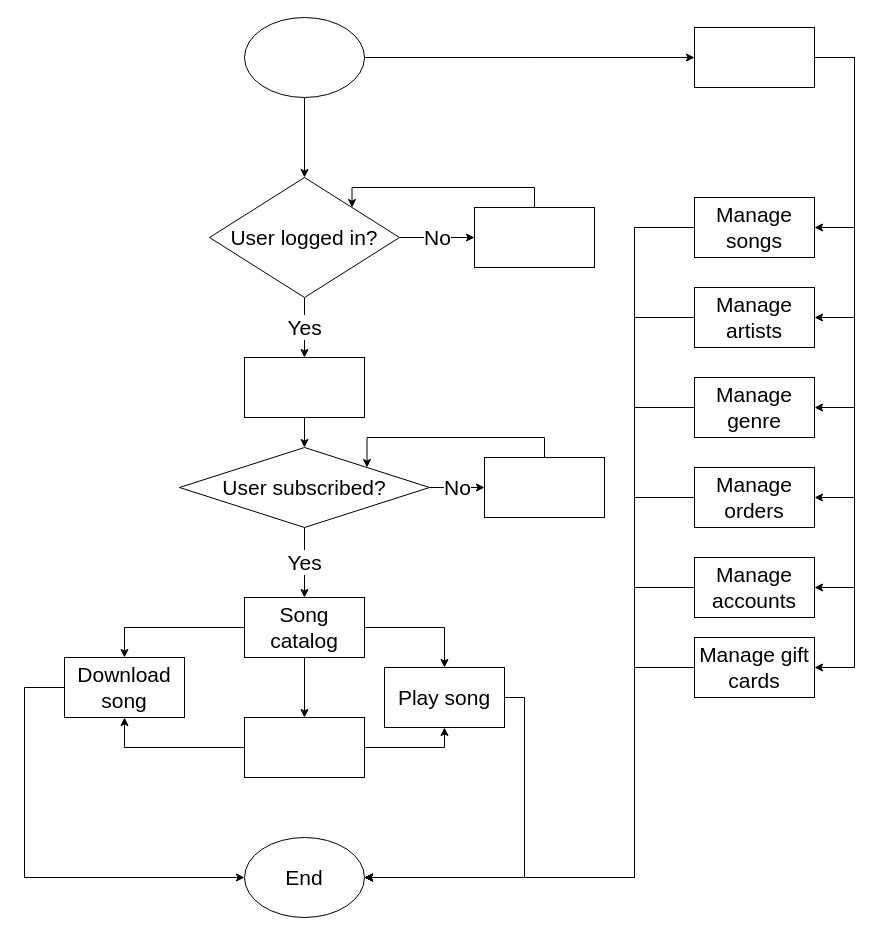
Some shapes in this 880 by 935 pixel diagram are drawn without their labels. Here are the shapes that lost their labels. From the top down, the centre of each, then its label:
point (304, 57): Start
point (754, 57): Admin login
point (534, 237): Login
point (304, 387): Browse song
point (544, 487): Subscribe
point (304, 747): Search song
